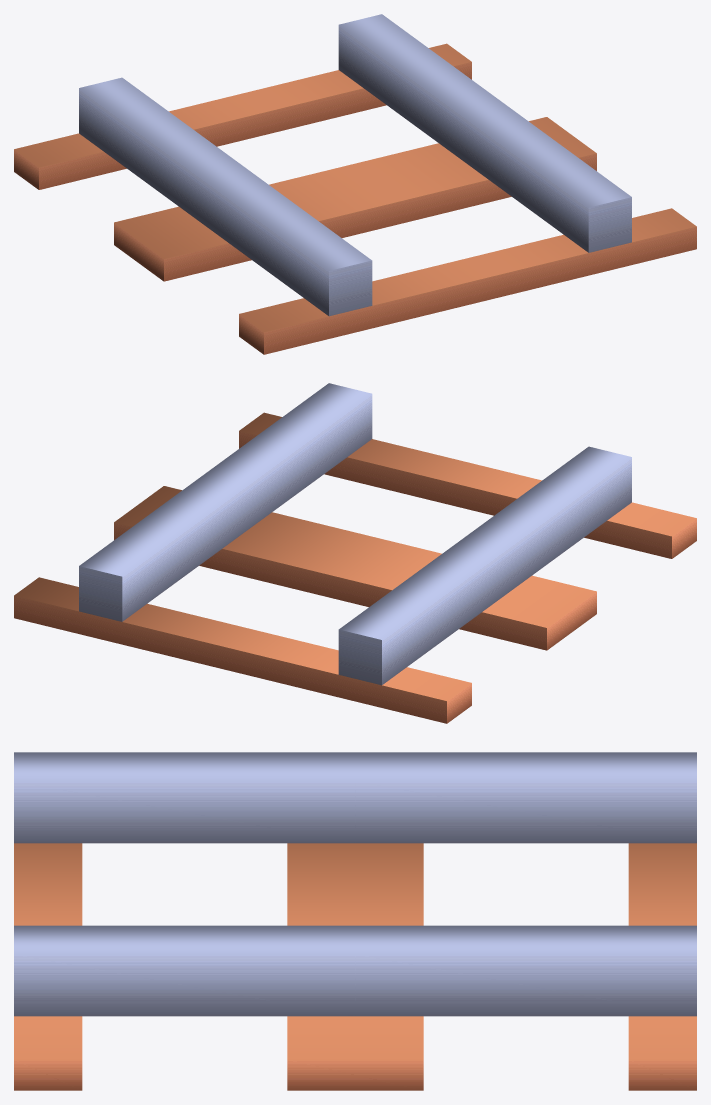
File: track.glb
The picture shows the model from 3 angles, top to bottom: view 1: azimuth 30°, elevation 25°; view 2: azimuth 150°, elevation 25°; view 3: azimuth 270°, elevation 25°; orthographic projection. The views are drawn at different scales.
Visible parts, largest first — view 1: track; view 2: track; view 3: track.
Part boxes in pixels (box(x1,y1,x2,y2)): track: box(14, 14, 696, 354); track: box(14, 383, 696, 723); track: box(14, 752, 696, 1090).
Size of the model in its own units: 1 by 0.15 by 1.
Materials: 1 (1 with a texture image).
